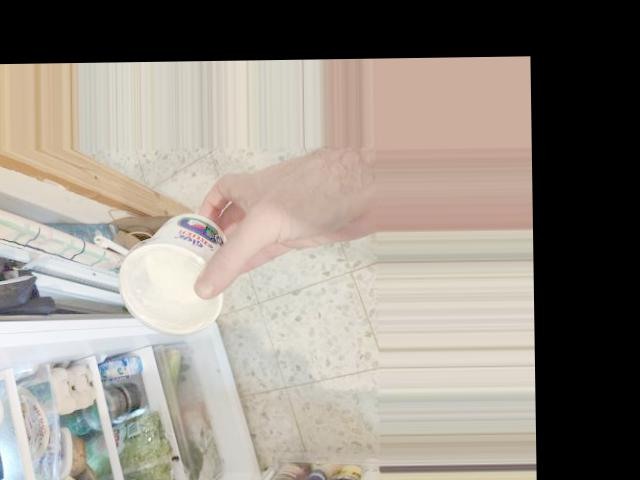cotage: (120, 208, 234, 322)
